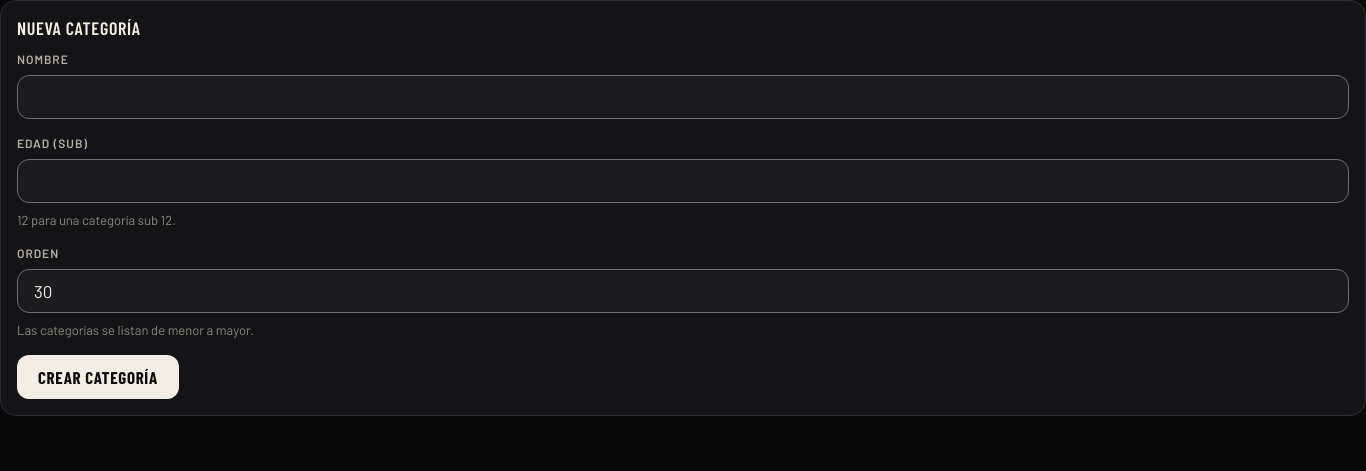
CategoryEditor · una categoría nueva › crea con lo escrito, la edad y el orden como números
In the field labelled "Nombre": (683, 97) [17,75,1349,119], type "Mayores"
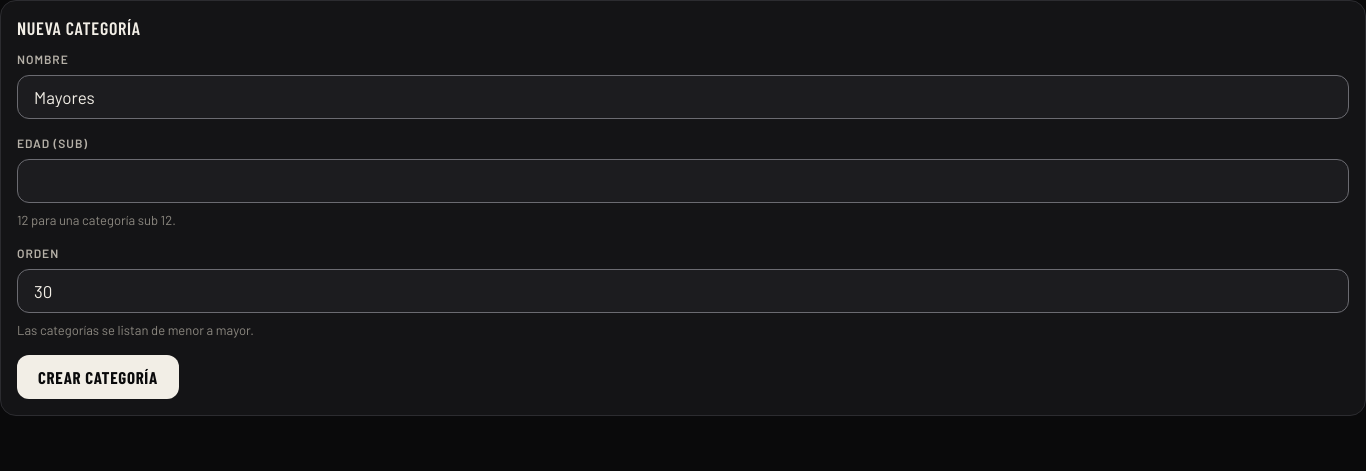
In the number field labelled "Edad (sub)": (683, 181) [17,159,1349,203], type "16"
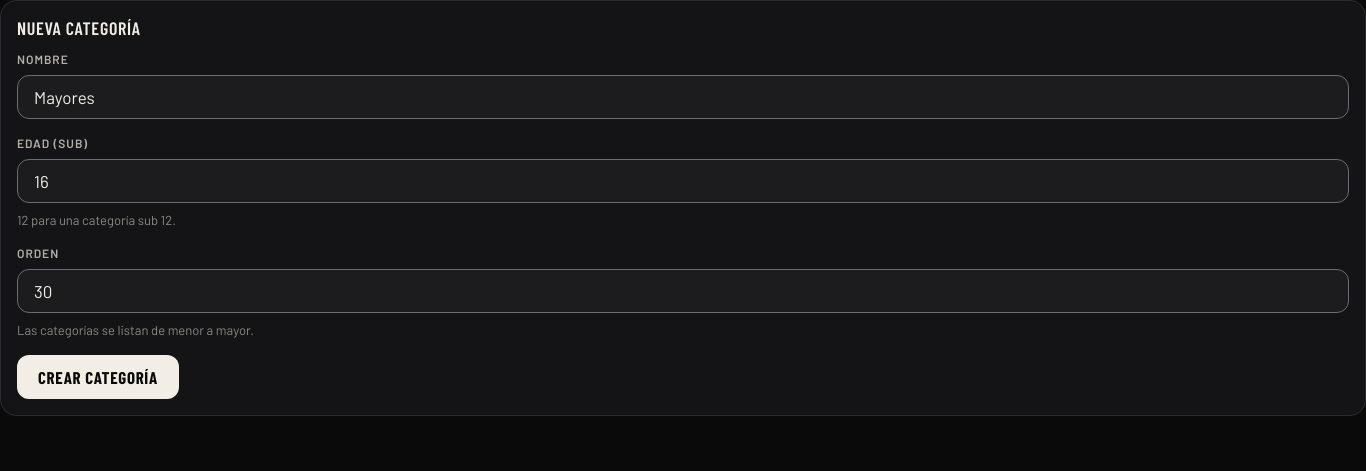
Click the button "Crear categoría": click(98, 377) [17,355,179,399]
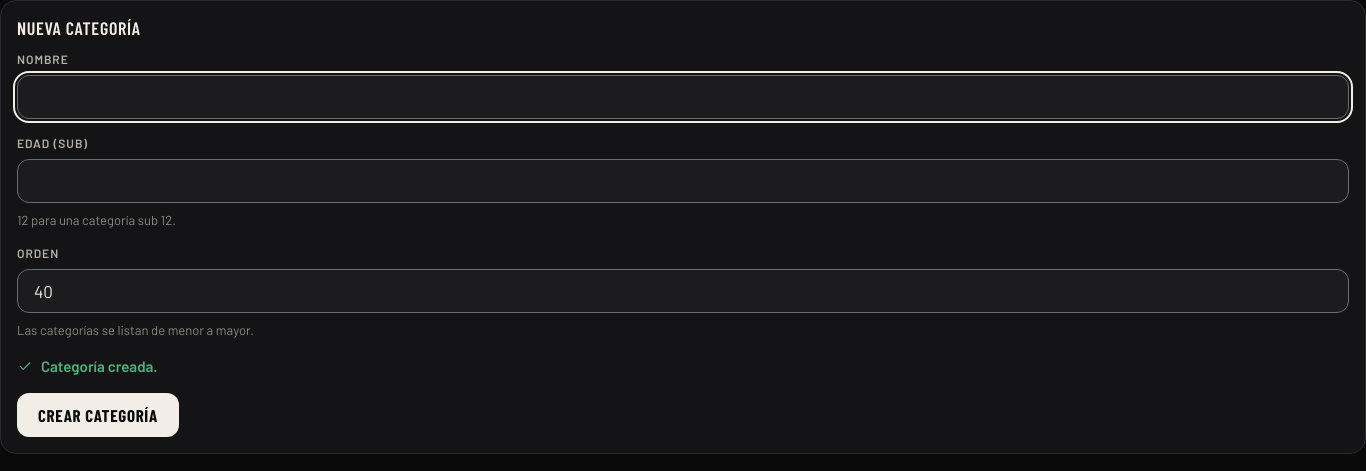
Result: the text "Categoría creada." is shown at [17,357,158,375]
